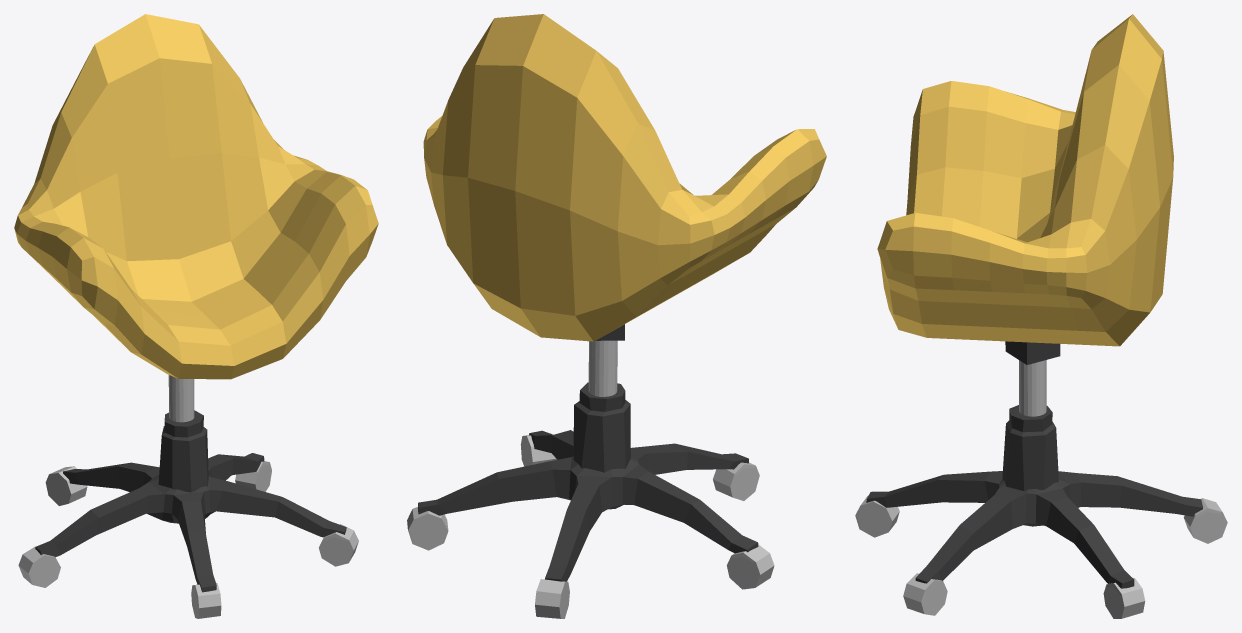
The model's file is Childroom2_Chair.fbx.
The picture shows the model from 3 angles, left to right: view 1: azimuth 30°, elevation 25°; view 2: azimuth 150°, elevation 25°; view 3: azimuth 270°, elevation 25°; orthographic projection. The views are drawn at different scales.
Parts seen in each view (by area): view 1: Childroom2_Chair; view 2: Childroom2_Chair; view 3: Childroom2_Chair.
Boxes of the visible parts, x1,y1,x2,y2 form: Childroom2_Chair: (14,14,378,618); Childroom2_Chair: (407,14,826,618); Childroom2_Chair: (855,14,1227,618).
Size of the model in its own units: 90.26 by 89.87 by 145.
